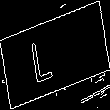L_N: (42, 26, 68, 84)
